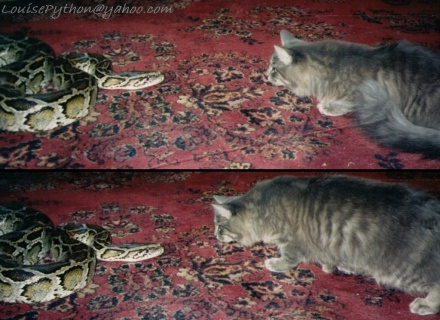Cat: (216, 177, 439, 318), (263, 28, 439, 158)
